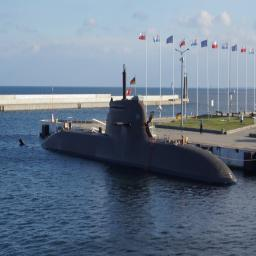submarine: (20, 61, 240, 185)
